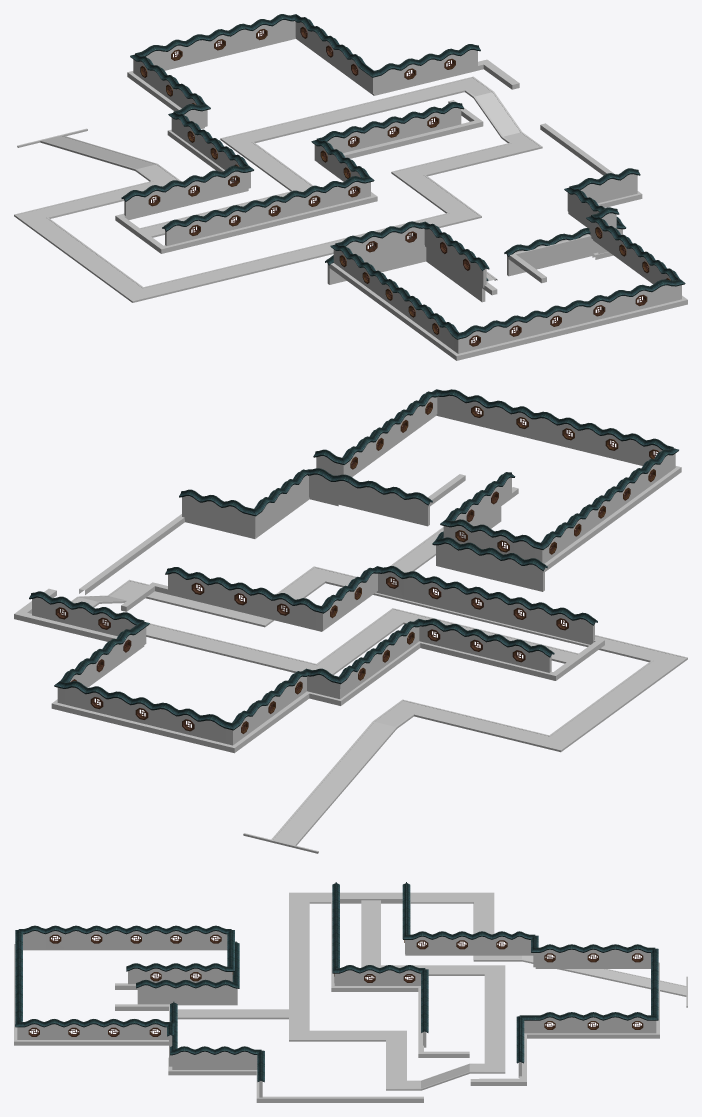
The model's file is environment_Building_bangpaichangjing_001_a.FBX.
The picture shows the model from 3 angles, top to bottom: view 1: azimuth 30°, elevation 25°; view 2: azimuth 150°, elevation 25°; view 3: azimuth 270°, elevation 25°; orthographic projection. The views are drawn at different scales.
Parts seen in each view (by area): view 1: environment_Building_bangpaichangjing_001_a01, environment_Building_bangpaichangjing_001_a02, environment_Building_bangpaichangjing_001_a04, environment_Building_bangpaichangjing_001_a08, environment_Building_bangpaichangjing_001_a03, environment_Building_bangpaichangjing_001_a07, environment_Building_bangpaichangjing_001_a05; view 2: environment_Building_bangpaichangjing_001_a01, environment_Building_bangpaichangjing_001_a02, environment_Building_bangpaichangjing_001_a04, environment_Building_bangpaichangjing_001_a03, environment_Building_bangpaichangjing_001_a08, environment_Building_bangpaichangjing_001_a07, environment_Building_bangpaichangjing_001_a05, environment_Building_bangpaichangjing_001_a06; view 3: environment_Building_bangpaichangjing_001_a01, environment_Building_bangpaichangjing_001_a02, environment_Building_bangpaichangjing_001_a04, environment_Building_bangpaichangjing_001_a08, environment_Building_bangpaichangjing_001_a03, environment_Building_bangpaichangjing_001_a07, environment_Building_bangpaichangjing_001_a05, environment_Building_bangpaichangjing_001_a06.
Part boxes in pixels (x1,y1,x2,y2): environment_Building_bangpaichangjing_001_a01: (124,20,681,353); environment_Building_bangpaichangjing_001_a02: (14,37,687,360); environment_Building_bangpaichangjing_001_a04: (17,78,539,300); environment_Building_bangpaichangjing_001_a08: (330,207,685,346); environment_Building_bangpaichangjing_001_a03: (121,14,480,206); environment_Building_bangpaichangjing_001_a07: (162,102,463,235); environment_Building_bangpaichangjing_001_a05: (504,168,640,256); environment_Building_bangpaichangjing_001_a01: (32,395,675,745); environment_Building_bangpaichangjing_001_a02: (14,414,687,853); environment_Building_bangpaichangjing_001_a04: (60,529,684,844); environment_Building_bangpaichangjing_001_a03: (29,591,554,733); environment_Building_bangpaichangjing_001_a08: (313,389,678,554); environment_Building_bangpaichangjing_001_a07: (165,566,597,630); environment_Building_bangpaichangjing_001_a05: (179,468,432,516); environment_Building_bangpaichangjing_001_a06: (432,497,547,571); environment_Building_bangpaichangjing_001_a01: (17,931,656,1097); environment_Building_bangpaichangjing_001_a02: (14,892,687,1102); environment_Building_bangpaichangjing_001_a04: (177,893,686,1088); environment_Building_bangpaichangjing_001_a08: (15,925,234,1036); environment_Building_bangpaichangjing_001_a03: (402,882,658,1063); environment_Building_bangpaichangjing_001_a07: (332,882,428,1032); environment_Building_bangpaichangjing_001_a05: (170,1001,264,1082); environment_Building_bangpaichangjing_001_a06: (136,941,239,988).
Size of the model in its own units: 5607 by 7685 by 953.
